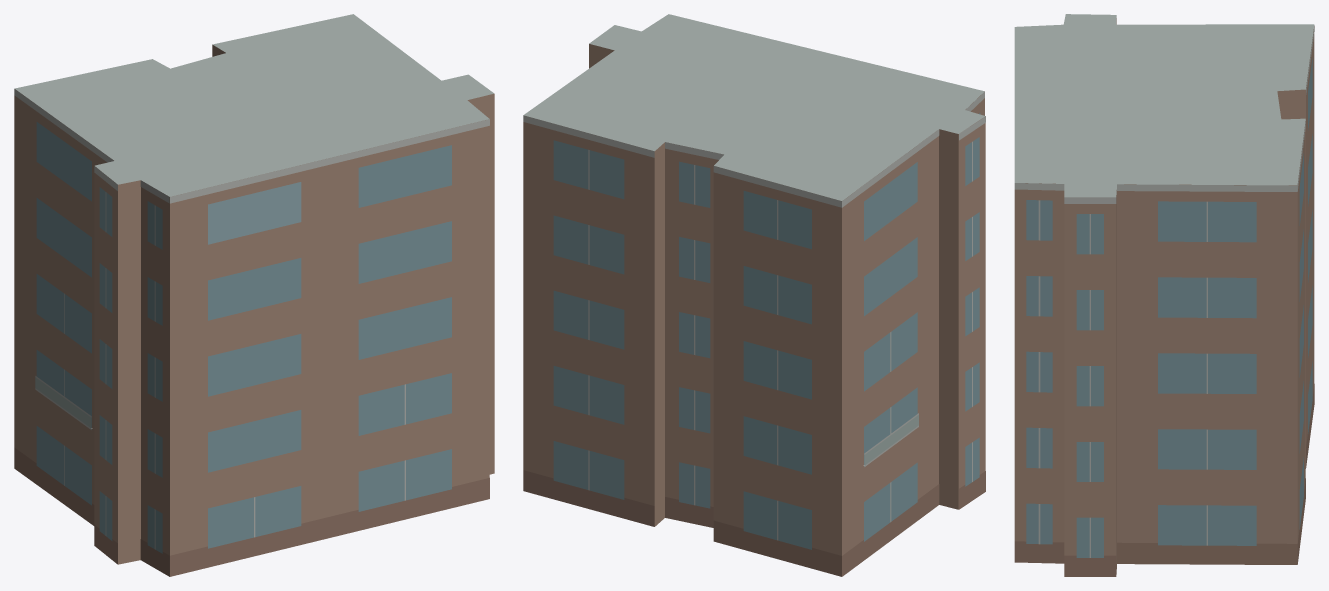
Rendered from survey-upis-32647663.glb.
The picture shows the model from 3 angles, left to right: view 1: azimuth 30°, elevation 25°; view 2: azimuth 150°, elevation 25°; view 3: azimuth 270°, elevation 25°; orthographic projection.
Parts seen in each view (by area): view 1: survey-upis-32647663.tmp; view 2: survey-upis-32647663.tmp; view 3: survey-upis-32647663.tmp.
Part boxes in pixels (x1=…): survey-upis-32647663.tmp: x1=14, y1=14, x2=494, y2=576; survey-upis-32647663.tmp: x1=523, y1=14, x2=985, y2=576; survey-upis-32647663.tmp: x1=1014, y1=14, x2=1314, y2=576.
Size of the model in its own units: 14.3 by 13.8 by 9.89.
